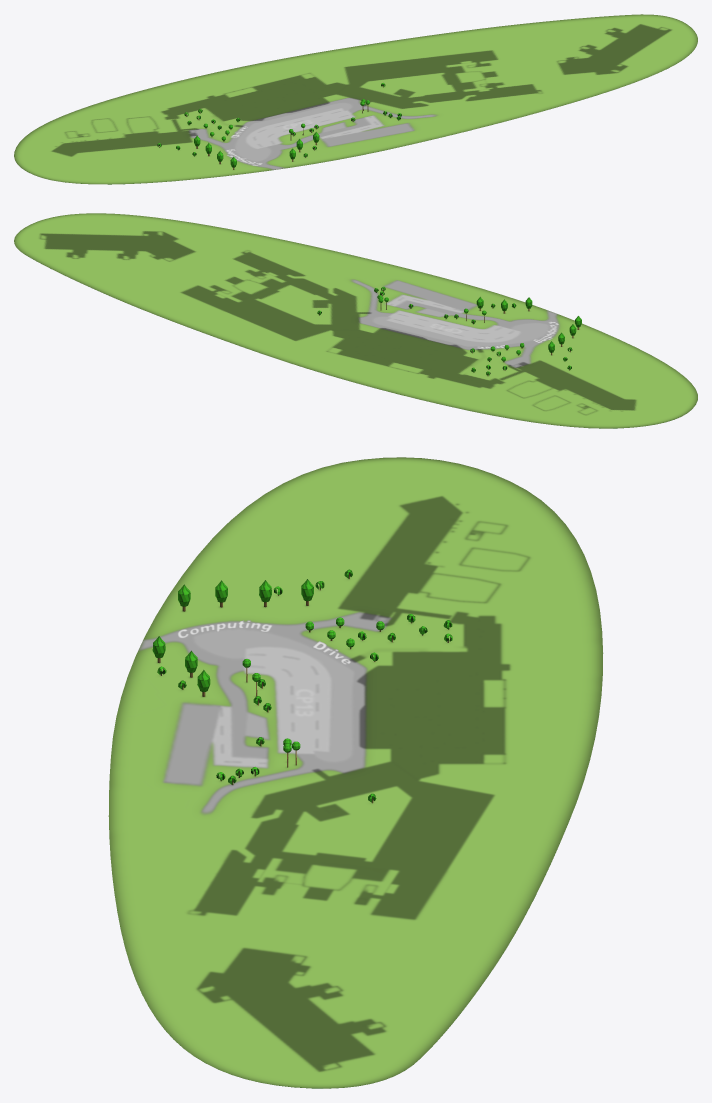
Rendered from SPL.dae.
3 renders of one model, top to bottom at view 1: azimuth 30°, elevation 25°; view 2: azimuth 150°, elevation 25°; view 3: azimuth 270°, elevation 25°, orthographic. The views are drawn at different scales.
Parts seen in each view (by area): view 1: Top, Trees; view 2: Top, Trees; view 3: Top, Trees.
Boxes of the visible parts, x1=… form: Top: x1=14, y1=14, x2=697, y2=184; Trees: x1=157, y1=83, x2=401, y2=169; Top: x1=14, y1=213, x2=697, y2=428; Trees: x1=317, y1=286, x2=581, y2=375; Top: x1=108, y1=457, x2=602, y2=1088; Trees: x1=152, y1=569, x2=452, y2=803.
Bounding box in the file's own units: 585 × 11.59 × 193.
3 materials, 2 textured.
